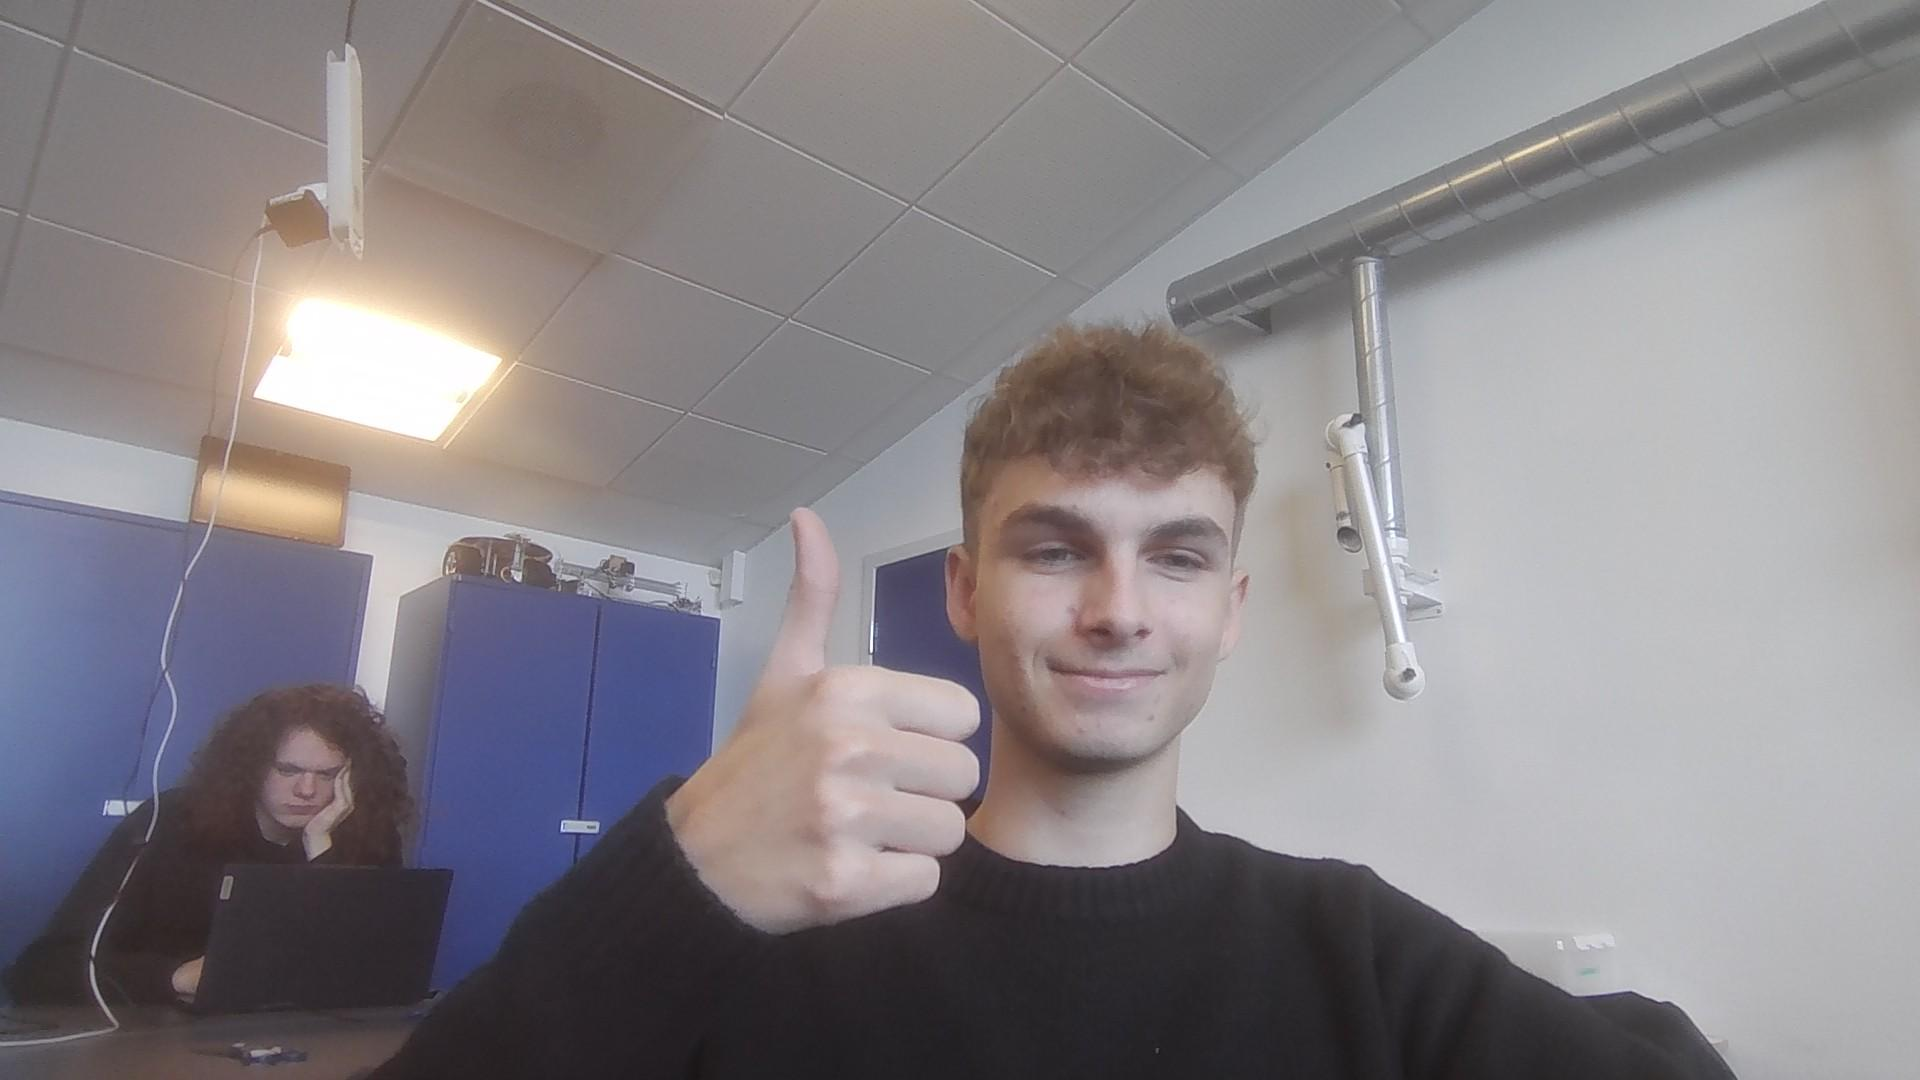thumbs up: (725, 501, 993, 927)
